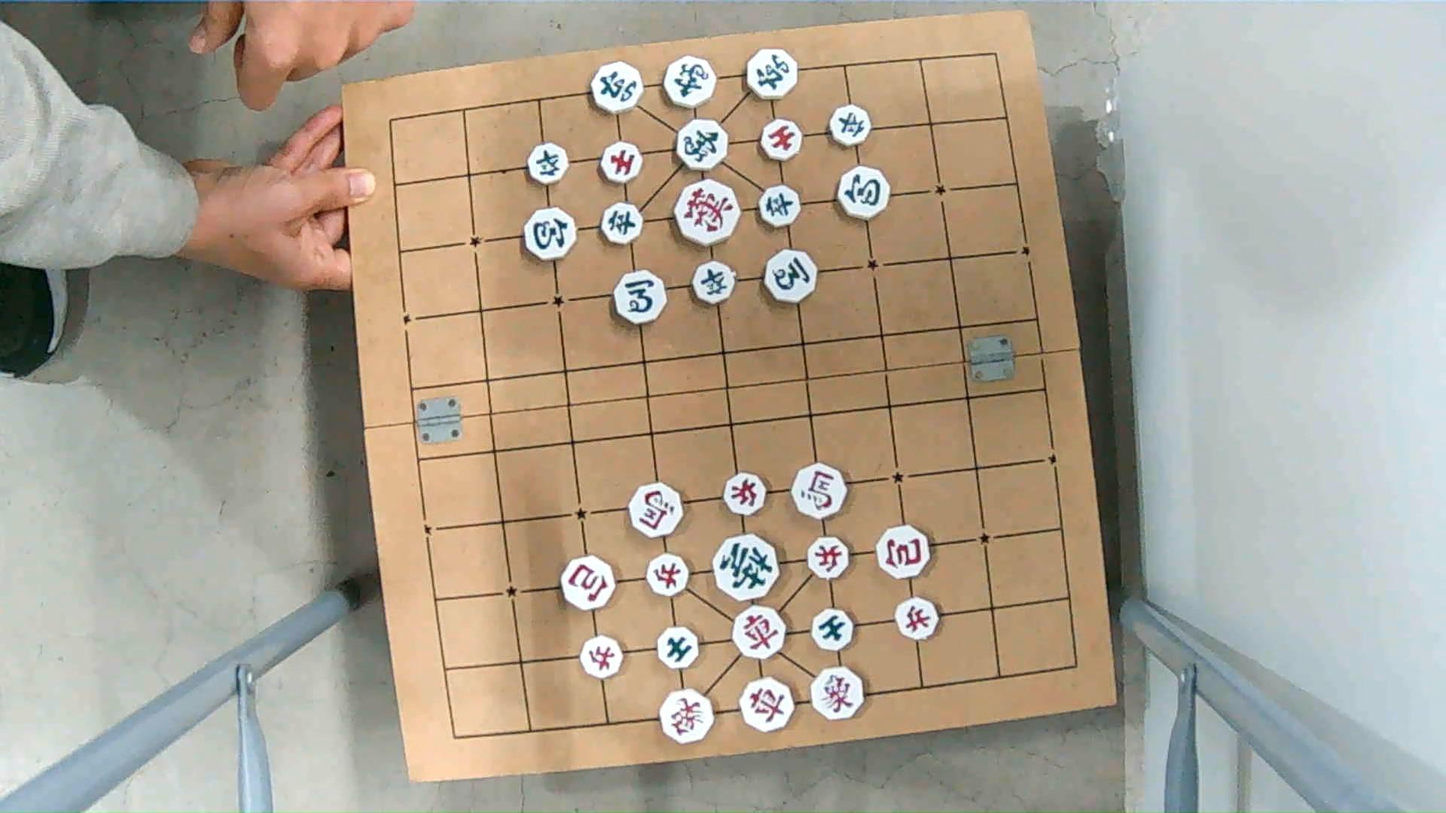cha_green: (743, 50, 801, 99), (593, 65, 650, 112)
cha_red: (741, 681, 799, 731), (734, 607, 792, 656)
jol_green: (758, 184, 804, 225), (692, 262, 739, 302), (828, 108, 873, 146), (601, 204, 644, 243), (528, 144, 572, 181)
jol_red: (805, 535, 850, 579), (721, 474, 769, 515), (647, 555, 691, 595), (582, 636, 626, 675), (896, 601, 938, 640)
ma_green: (763, 251, 821, 302), (616, 272, 669, 326)
ma_red: (791, 465, 848, 519), (627, 486, 684, 537)
po_green: (837, 168, 894, 218), (518, 213, 575, 262)
po_red: (560, 559, 617, 609), (879, 528, 937, 577)
sa_green: (655, 629, 701, 668), (809, 611, 854, 649)
sa_red: (760, 120, 807, 158), (601, 141, 644, 182)
sang_green: (674, 121, 731, 169), (665, 57, 714, 106)
sang_red: (810, 667, 868, 717), (658, 693, 715, 742)
wang_green: (714, 540, 782, 600)
wang_red: (672, 181, 741, 240)
